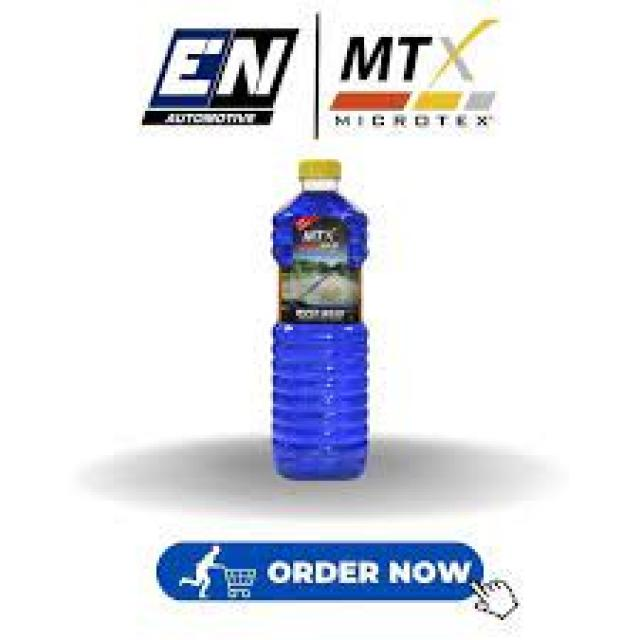winwinshield_washer: (264, 156, 374, 481)
